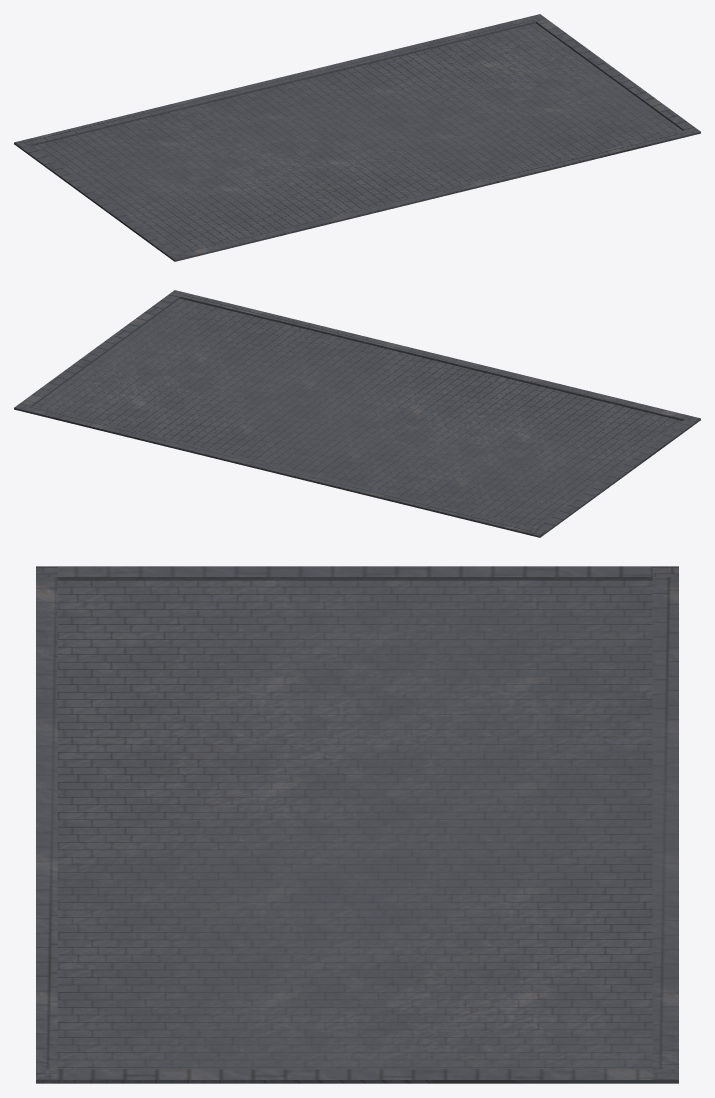
The model's file is Stonepavement_map.fbx.
3 views of the same model, one above another, from view 1: azimuth 30°, elevation 25°; view 2: azimuth 150°, elevation 25°; view 3: azimuth 270°, elevation 25° (orthographic). The views are drawn at different scales.
Parts seen in each view (by area): view 1: pPlane11; view 2: pPlane11; view 3: pPlane11.
Part boxes in pixels (x1,y1,x2,y2): pPlane11: (14,14,700,261); pPlane11: (14,290,700,537); pPlane11: (36,566,678,1083).
Bounding box in the file's own units: 3256 × 10.6 × 1724.
1 material, 1 textured.
